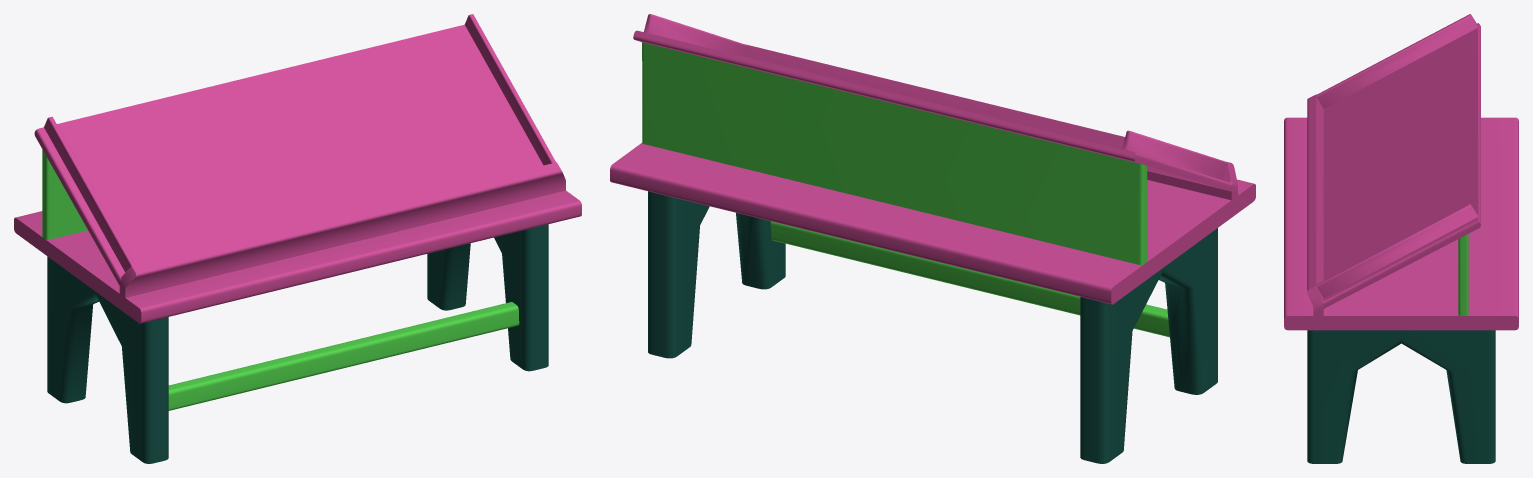
File: Table2.FBX
3 renders of one model, left to right at view 1: azimuth 30°, elevation 25°; view 2: azimuth 150°, elevation 25°; view 3: azimuth 270°, elevation 25°, orthographic. The views are drawn at different scales.
Visible parts, largest first — view 1: Box001; view 2: Box001; view 3: Box001.
Boxes of the visible parts, bbox=[...] form: Box001: bbox=[14, 14, 581, 463]; Box001: bbox=[610, 14, 1255, 463]; Box001: bbox=[1284, 14, 1518, 463].
Size of the model in its own units: 76.2 by 47.15 by 38.1.
